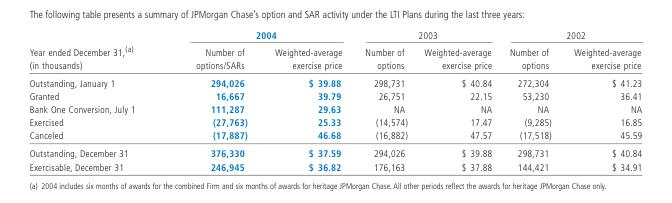table: (28, 28, 641, 171)
table column: (28, 28, 164, 171), (164, 28, 260, 171), (260, 28, 352, 171), (415, 28, 500, 171), (562, 28, 641, 171), (352, 28, 415, 171), (500, 28, 562, 171)
table column header: (28, 28, 641, 73)
table row: (28, 42, 641, 73), (28, 73, 641, 89), (28, 128, 641, 144), (28, 144, 641, 159), (28, 28, 641, 42), (28, 89, 641, 102), (28, 102, 641, 115), (28, 115, 641, 128), (28, 159, 641, 171)
table spanning cell: (28, 28, 164, 73), (164, 28, 352, 42), (352, 28, 500, 42), (500, 28, 641, 42)
